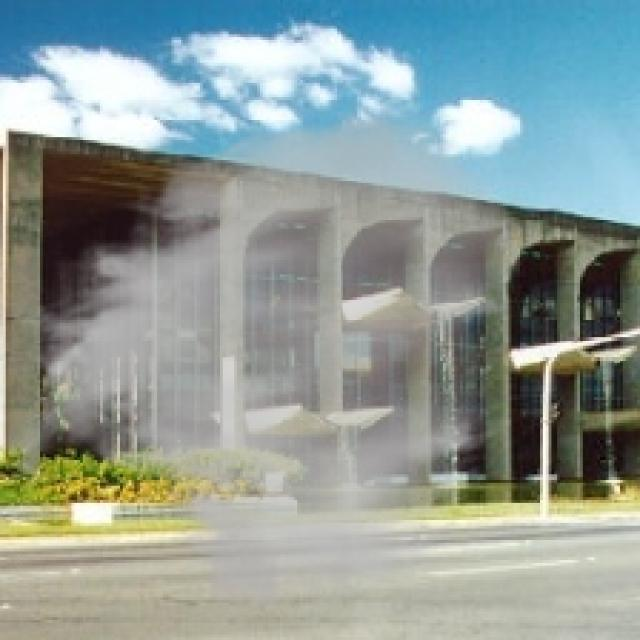Smoke: (8, 102, 526, 618)
